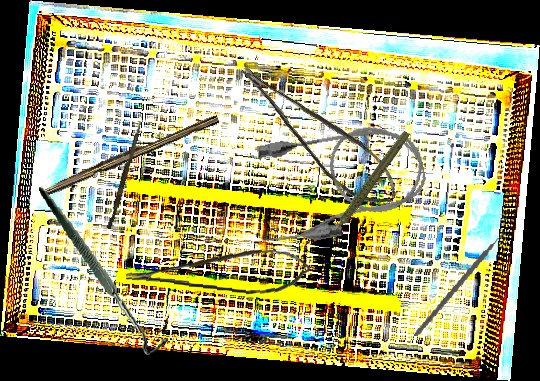Cannula: (245, 115, 434, 251)
Chopper: (414, 218, 517, 349)
Handpiece: (306, 129, 428, 240)
Hook Surgical: (38, 173, 170, 366)
Micro Scissor: (235, 40, 408, 223), (125, 238, 311, 299)
Pusher: (106, 120, 143, 231)
Scalpel Handle: (43, 109, 220, 199)
